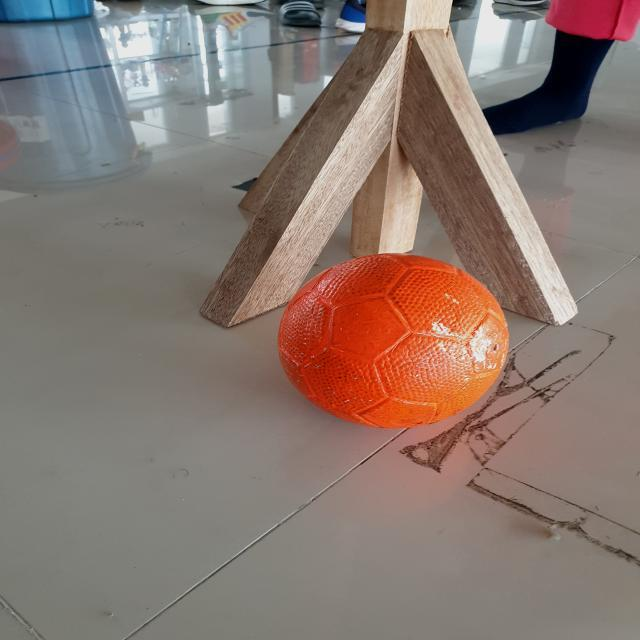bola: (260, 238, 531, 451)
